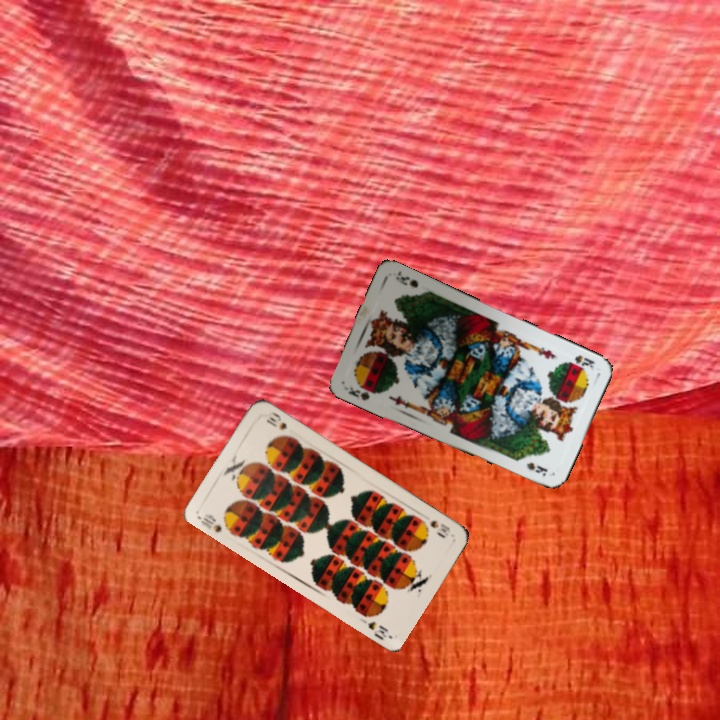S10: (417, 516, 453, 539), (194, 509, 225, 535)
SK: (339, 382, 372, 403), (571, 351, 597, 373)
